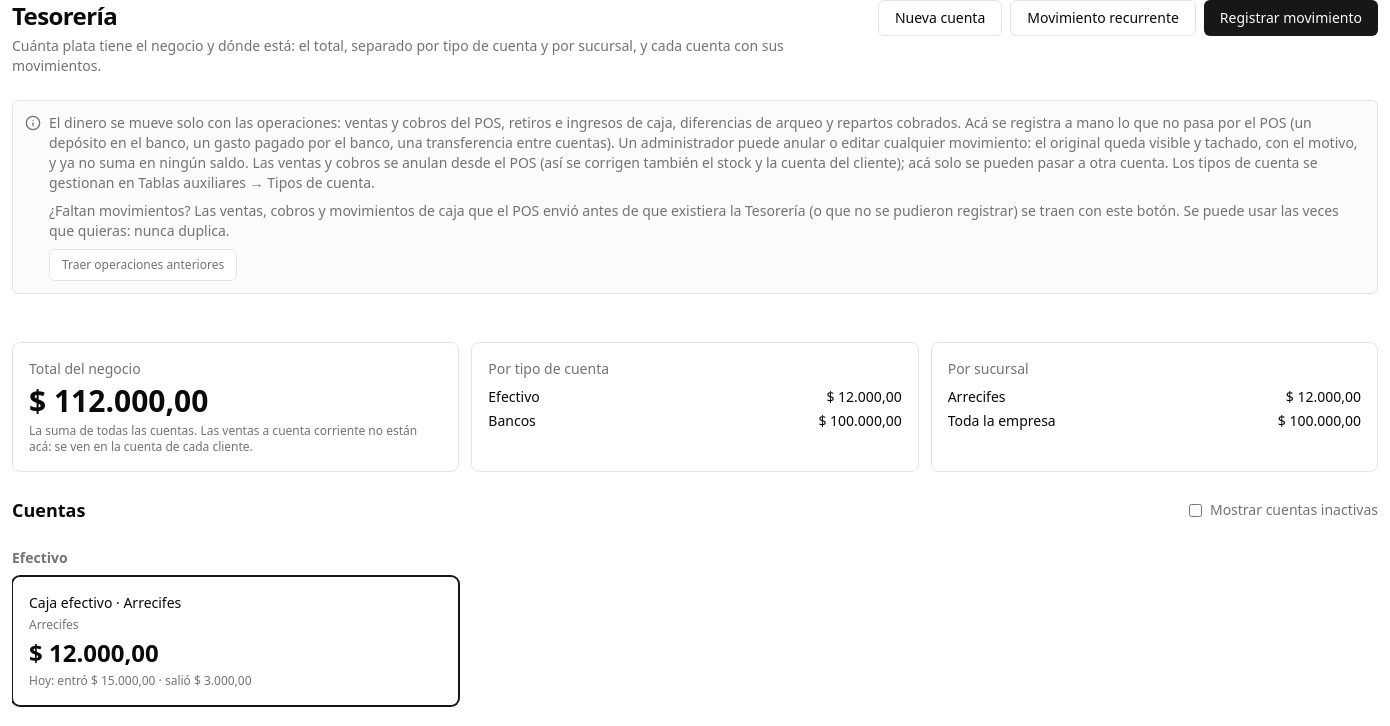
Test case: TreasuryScreen › shows where the money is: the total, by type, by branch, and the active accounts grouped by type
Expected: the text "$ 112.000,00" is shown, [29,380,208,421]
Expected: the text "Efectivo" is shown, [488,387,540,407]
Click the checkbox labelled "Mostrar cuentas inactivas" at (1195, 510), box [1189,504,1202,516]
(page scrolled)
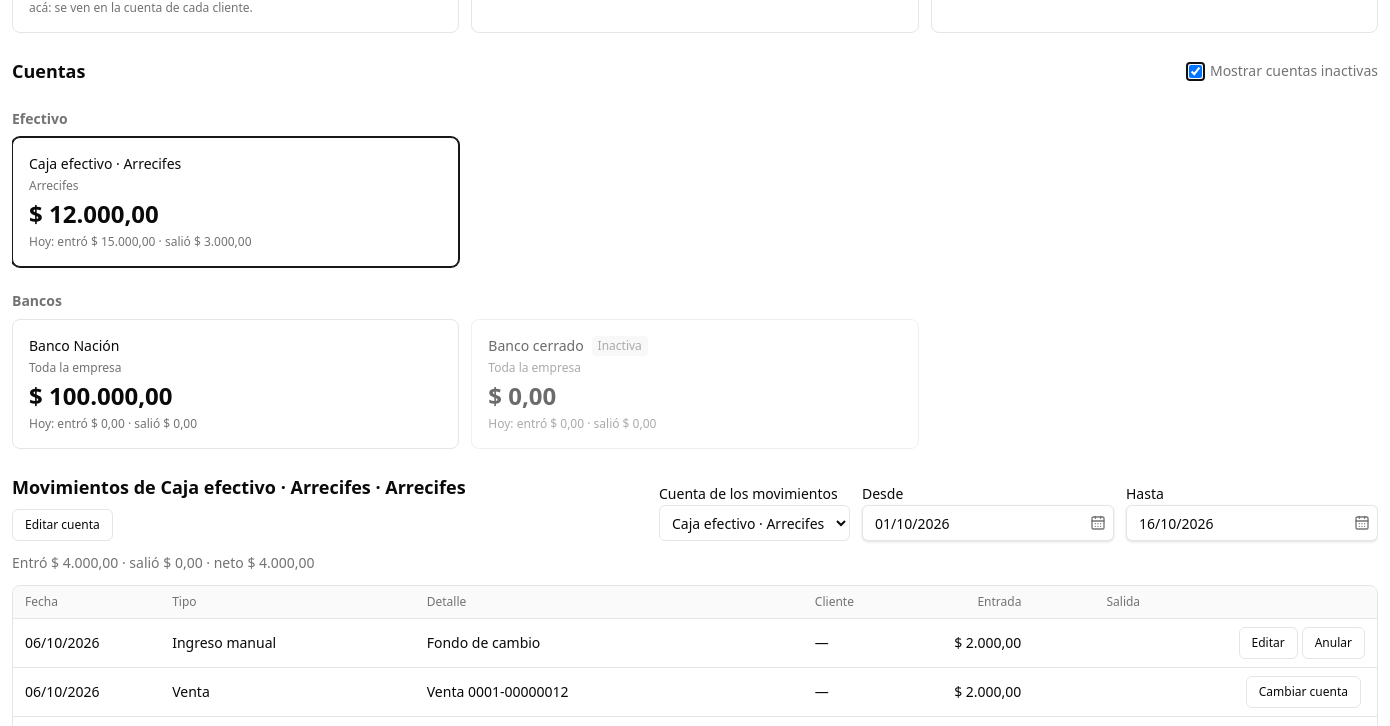
Expected: the button "Banco cerrado" is shown, [471,319,919,449]
